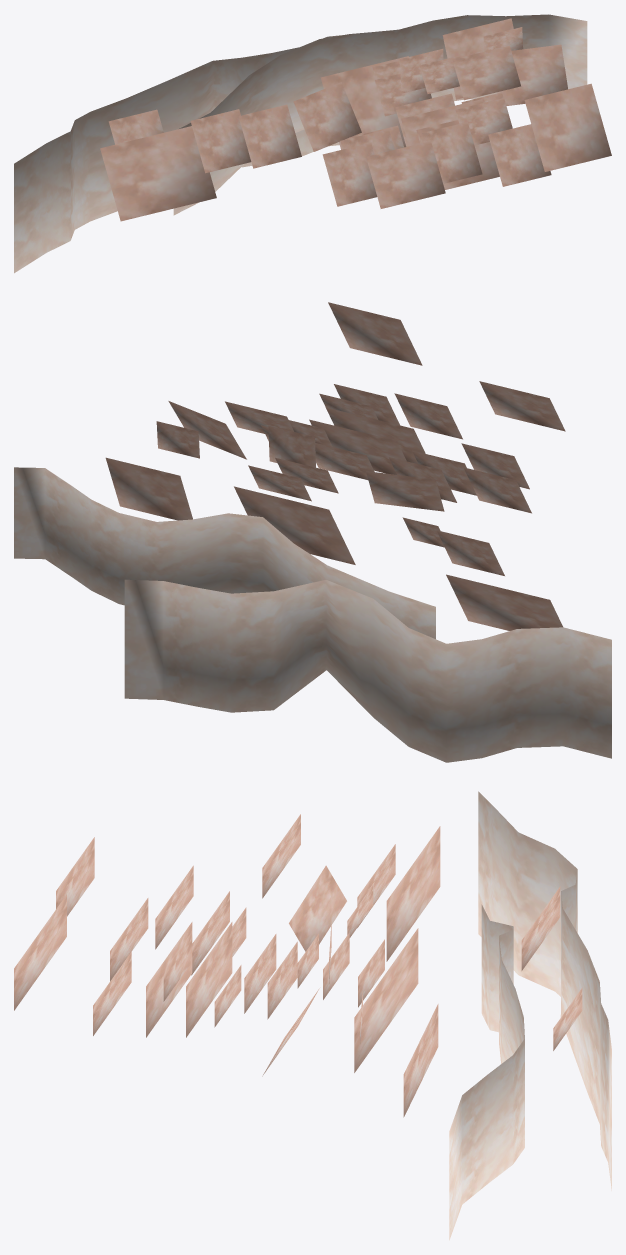
The model's file is MotCloud.obj.
The picture shows the model from 3 angles, top to bottom: view 1: azimuth 30°, elevation 25°; view 2: azimuth 150°, elevation 25°; view 3: azimuth 270°, elevation 25°; orthographic projection. The views are drawn at different scales.
Parts seen in each view (by area): view 1: polygon28, polygon29, polygon20, polygon4, polygon3, polygon8, polygon17, polygon19, polygon12, polygon22, polygon6, polygon5 (+14 smaller); view 2: polygon28, polygon29, polygon22, polygon20, polygon14, polygon4, polygon8, polygon3, polygon25, polygon26, polygon17, polygon10 (+14 smaller); view 3: polygon28, polygon29, polygon22, polygon20, polygon8, polygon25, polygon4, polygon26, polygon14, polygon3, polygon13, polygon17 (+12 smaller).
Boxes of the visible parts, left/top/right/bottom form: polygon28: left=14, top=35, right=342, bottom=273; polygon29: left=173, top=14, right=587, bottom=215; polygon20: left=100, top=126, right=216, bottom=221; polygon4: left=524, top=83, right=611, bottom=171; polygon3: left=366, top=141, right=445, bottom=208; polygon8: left=293, top=82, right=361, bottom=151; polygon17: left=238, top=104, right=301, bottom=168; polygon19: left=497, top=44, right=567, bottom=105; polygon12: left=190, top=109, right=251, bottom=173; polygon22: left=320, top=56, right=408, bottom=149; polygon6: left=452, top=45, right=520, bottom=100; polygon5: left=488, top=124, right=551, bottom=186; polygon28: left=124, top=579, right=611, bottom=762; polygon29: left=14, top=467, right=435, bottom=638; polygon22: left=234, top=486, right=355, bottom=564; polygon20: left=446, top=574, right=562, bottom=630; polygon14: left=105, top=457, right=192, bottom=520; polygon4: left=328, top=302, right=422, bottom=365; polygon8: left=366, top=471, right=444, bottom=511; polygon3: left=479, top=381, right=565, bottom=431; polygon25: left=309, top=419, right=406, bottom=474; polygon26: left=325, top=407, right=425, bottom=463; polygon17: left=463, top=467, right=531, bottom=513; polygon10: left=394, top=393, right=462, bottom=439; polygon28: left=478, top=791, right=611, bottom=1190; polygon29: left=449, top=904, right=524, bottom=1240; polygon22: left=354, top=928, right=418, bottom=1072; polygon20: left=386, top=826, right=440, bottom=961; polygon8: left=289, top=865, right=346, bottom=951; polygon25: left=186, top=922, right=232, bottom=1037; polygon4: left=14, top=894, right=66, bottom=1010; polygon26: left=146, top=922, right=192, bottom=1037; polygon14: left=403, top=1004, right=438, bottom=1117; polygon3: left=56, top=837, right=94, bottom=916; polygon13: left=521, top=886, right=560, bottom=970; polygon17: left=262, top=814, right=300, bottom=898.
Size of the model in its own units: 389 by 137 by 275.
2 materials, 2 textured.
